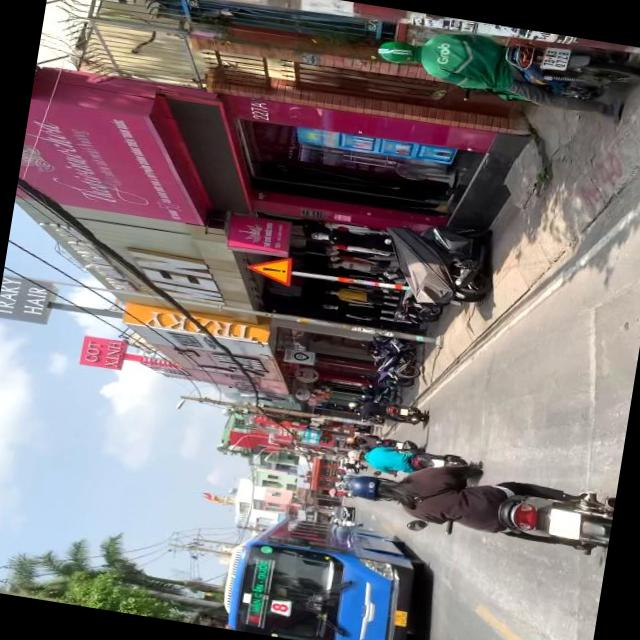W-233: (244, 252, 294, 288)
